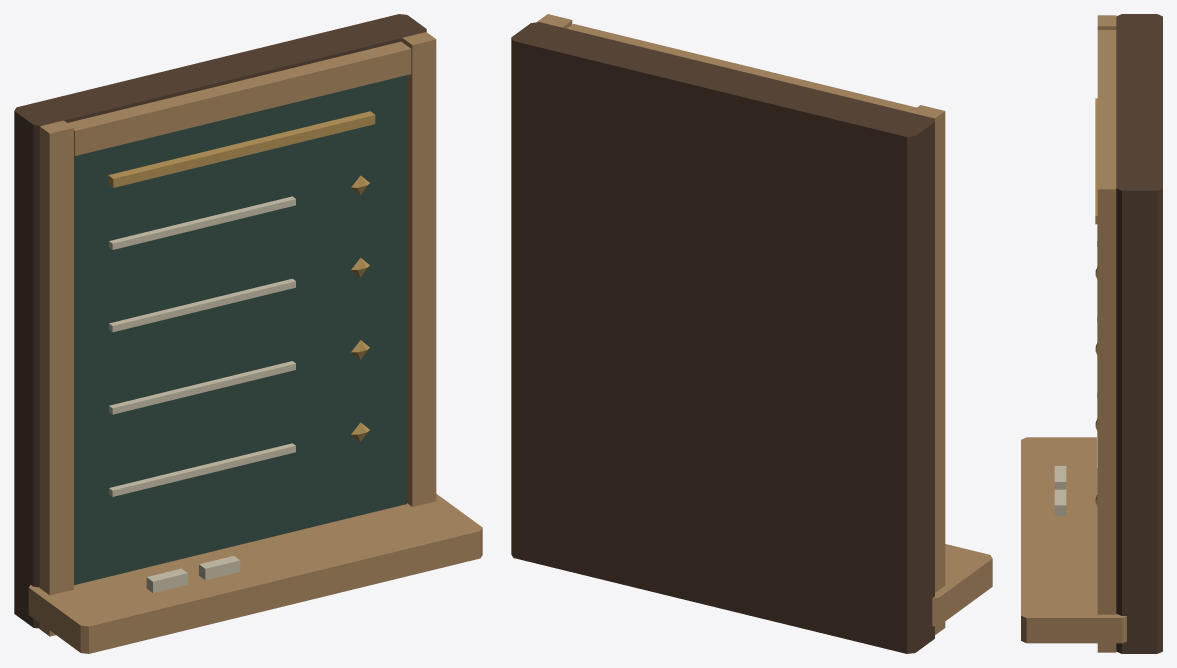
Rendered from board_menu.glb.
The picture shows the model from 3 angles, left to right: view 1: azimuth 30°, elevation 25°; view 2: azimuth 150°, elevation 25°; view 3: azimuth 270°, elevation 25°; orthographic projection. The views are drawn at different scales.
Parts seen in each view (by area): view 1: geometry; view 2: geometry; view 3: geometry.
Boxes of the visible parts, x1,y1,x2,y2 form: geometry: (14,14,482,653); geometry: (511,14,992,653); geometry: (1021,14,1162,653).
Bounding box in the file's own units: 0.92 × 1.1 × 0.305.
